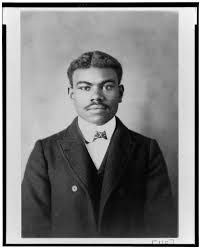no-mask: (67, 48, 128, 129)
